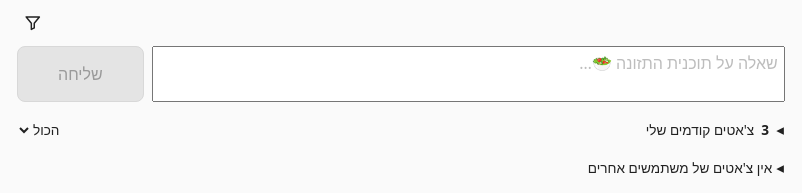
Scenario: Chat › filters by the server's figures while the transcript is still unloaded
Expected: the button "3 צ'אטים קודמים שלי" is shown, x1=72 y1=118 x2=785 y2=140
Select "מהאפליקציה" in the dropdown named "סינון הצ'אטים" at (40, 130), box x1=17 y1=122 x2=64 y2=139
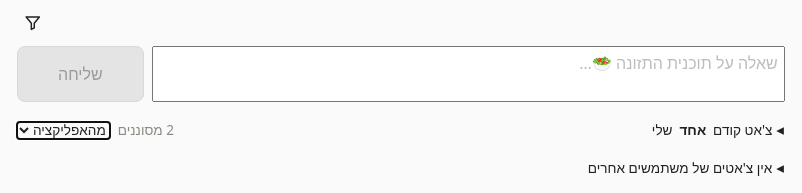
Expected: the button "צ'אט קודם אחד שלי" is shown, x1=182 y1=118 x2=785 y2=140
Expected: the text "2 מסוננים" is shown, x1=118 y1=120 x2=174 y2=139
Select "שלי" in the dropdown named "סינון הצ'אטים" at (63, 130), box x1=17 y1=122 x2=110 y2=139
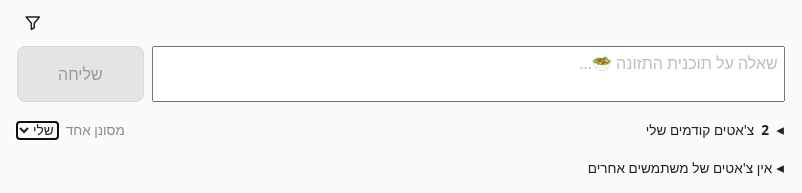
Expected: the button "2 צ'אטים קודמים שלי" is shown, x1=133 y1=118 x2=785 y2=140
